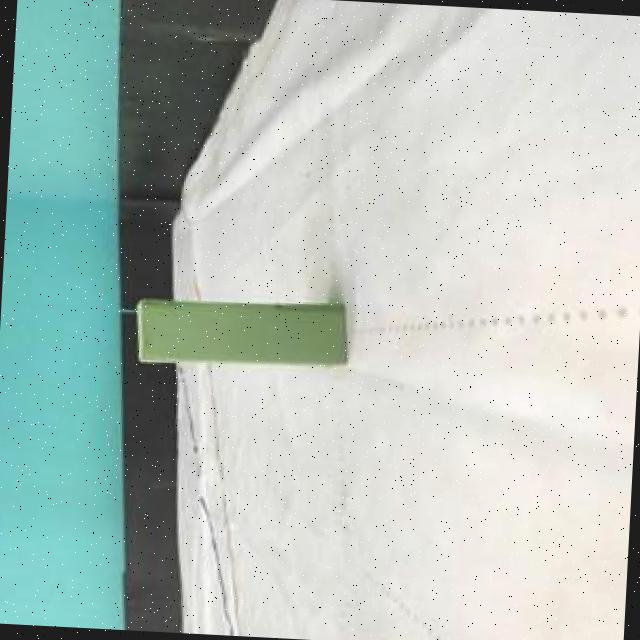greenbox: (130, 291, 355, 375)
